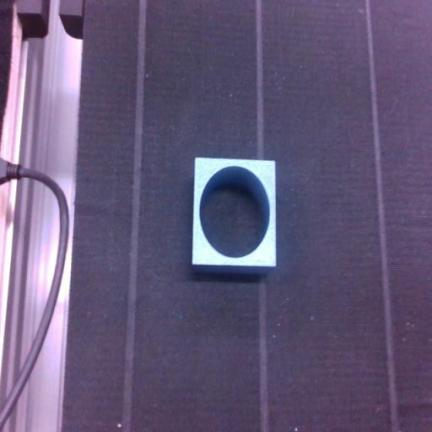hole: (200, 181, 267, 257)
